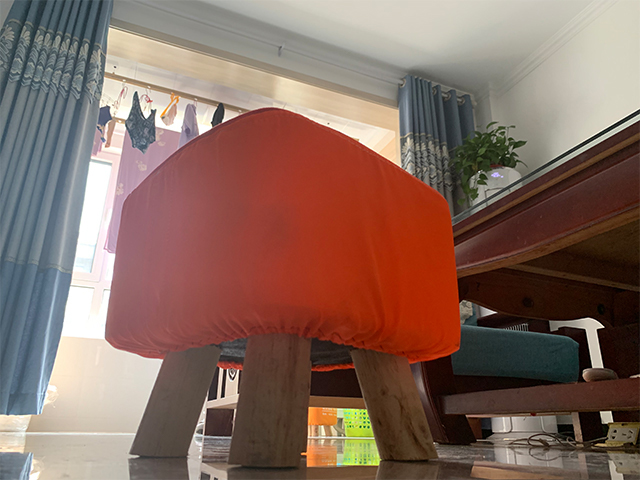curtain: (1, 1, 114, 416)
stool: (105, 106, 462, 469), (307, 407, 339, 439)
table: (410, 108, 640, 448)
trashcan: (343, 409, 374, 437)
wire: (507, 428, 608, 450)
